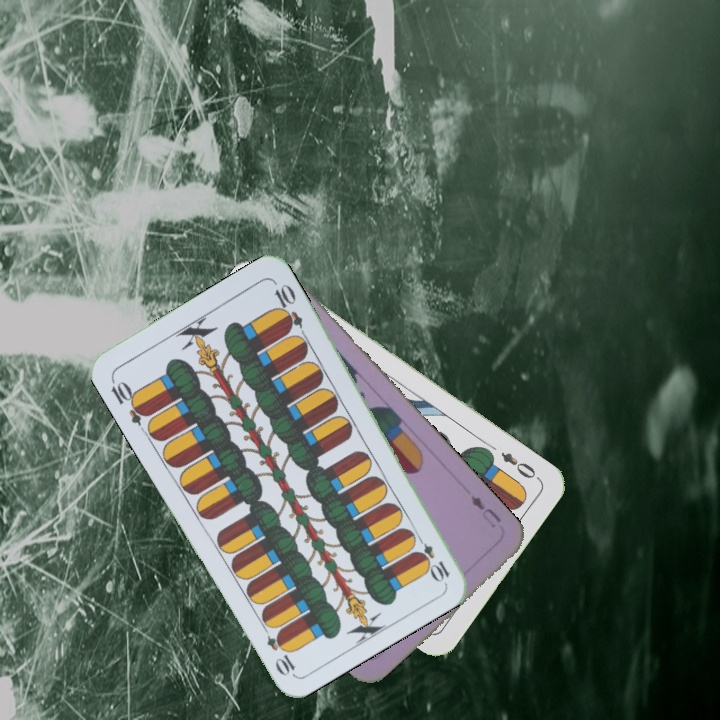E10: (107, 374, 152, 428), (410, 530, 453, 584)
EO: (496, 448, 543, 483)
EU: (466, 490, 504, 531)
